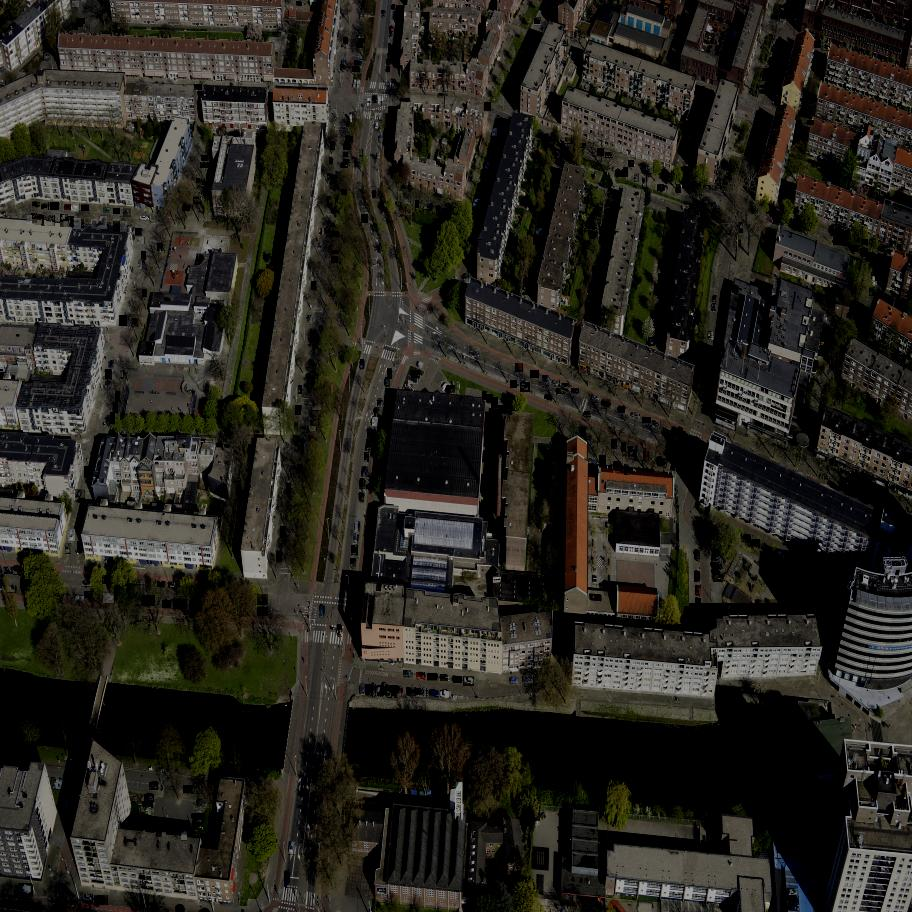large-vehicle: (717, 338, 726, 359)
small-vehicle: (18, 884, 34, 898), (189, 601, 203, 613), (142, 595, 155, 607), (94, 895, 108, 906), (75, 490, 86, 503), (462, 676, 475, 687), (173, 599, 187, 609), (552, 641, 562, 655), (740, 534, 752, 545), (441, 382, 453, 393), (519, 383, 531, 394), (776, 551, 788, 562), (257, 595, 269, 606), (845, 579, 857, 590), (103, 594, 116, 604), (829, 622, 842, 632), (794, 842, 804, 855), (796, 560, 807, 571), (13, 566, 25, 576), (613, 461, 623, 473), (601, 400, 613, 410), (802, 843, 810, 858), (788, 889, 800, 899), (193, 813, 204, 823), (119, 221, 129, 232), (765, 547, 776, 557), (141, 808, 152, 818), (538, 212, 549, 222), (408, 375, 419, 385), (498, 405, 509, 415), (628, 446, 638, 457), (599, 455, 608, 467), (788, 897, 800, 906), (100, 217, 108, 230), (61, 214, 69, 227), (777, 836, 783, 853), (103, 575, 113, 585), (105, 370, 114, 381), (161, 600, 172, 609), (122, 208, 133, 217), (119, 315, 128, 326), (47, 216, 56, 227), (711, 556, 722, 565), (44, 215, 53, 226), (142, 801, 153, 810), (183, 786, 194, 795), (198, 800, 209, 809), (750, 540, 761, 549), (523, 675, 534, 684), (406, 688, 417, 697), (491, 397, 500, 408), (429, 690, 440, 699), (427, 673, 438, 682), (440, 691, 451, 700), (103, 380, 111, 392), (65, 216, 73, 228), (73, 218, 81, 230), (68, 529, 75, 542), (284, 873, 291, 886), (288, 842, 295, 855), (76, 18, 86, 27), (21, 580, 31, 589), (65, 798, 71, 813), (71, 204, 81, 213), (149, 782, 159, 791), (602, 217, 611, 227), (502, 410, 511, 420), (446, 385, 456, 394), (652, 420, 662, 429), (411, 370, 421, 379), (820, 332, 830, 341), (706, 403, 715, 413), (112, 222, 120, 233), (144, 794, 155, 802), (35, 215, 43, 226), (712, 563, 723, 571), (351, 545, 359, 556), (359, 478, 367, 489), (257, 608, 268, 616), (630, 412, 641, 420), (781, 60, 789, 71), (695, 598, 702, 610), (280, 526, 287, 538), (599, 235, 608, 244), (587, 295, 596, 304), (44, 53, 53, 62), (196, 177, 206, 185), (533, 237, 543, 245), (599, 227, 609, 235), (417, 689, 427, 697), (544, 395, 554, 403), (788, 904, 798, 912), (787, 558, 797, 566), (84, 466, 90, 479), (695, 571, 702, 582), (92, 219, 99, 230), (133, 318, 140, 329), (295, 405, 302, 416), (362, 466, 369, 477), (762, 68, 773, 75), (712, 550, 721, 558), (110, 413, 116, 425), (83, 25, 92, 33), (50, 202, 59, 210), (507, 75, 516, 83), (136, 228, 144, 237), (483, 103, 492, 111), (523, 279, 532, 287), (589, 287, 598, 295), (487, 394, 495, 403), (510, 380, 519, 388), (515, 364, 524, 372), (128, 226, 136, 235), (561, 383, 570, 391), (786, 839, 792, 851), (759, 86, 768, 94), (887, 249, 896, 257), (463, 273, 471, 282), (597, 148, 606, 156), (860, 248, 869, 256), (694, 550, 701, 560), (397, 687, 404, 697), (622, 442, 629, 452), (611, 440, 618, 450), (530, 371, 540, 378), (812, 894, 822, 901), (710, 392, 717, 402), (649, 337, 656, 347), (762, 135, 769, 145), (475, 231, 482, 241), (832, 239, 842, 246), (113, 402, 119, 413), (65, 543, 71, 554), (277, 551, 283, 562), (366, 684, 372, 695), (623, 167, 629, 178), (95, 13, 103, 21), (331, 256, 339, 264), (522, 288, 530, 296), (536, 229, 544, 237), (551, 15, 559, 23), (646, 166, 654, 174), (771, 44, 779, 52), (814, 41, 822, 49), (703, 186, 712, 193), (83, 895, 92, 902), (81, 205, 90, 212), (82, 579, 91, 586), (4, 567, 13, 574), (502, 86, 511, 93), (200, 162, 209, 169), (713, 575, 722, 582), (193, 823, 202, 830), (137, 237, 146, 244), (247, 445, 256, 452), (193, 198, 202, 205), (358, 27, 367, 34), (331, 176, 338, 185), (317, 243, 324, 252), (362, 215, 369, 224), (604, 211, 611, 220), (586, 303, 593, 312), (551, 380, 560, 387), (592, 396, 601, 403), (658, 274, 665, 283), (762, 74, 771, 81), (768, 57, 777, 64), (869, 287, 876, 296), (470, 253, 477, 262), (474, 199, 481, 208), (660, 266, 667, 275), (862, 312, 869, 321), (32, 214, 38, 224), (181, 831, 187, 841), (364, 453, 370, 463), (297, 464, 303, 474), (467, 263, 473, 273), (826, 583, 832, 593), (72, 23, 79, 31), (103, 207, 111, 214), (157, 244, 164, 252), (353, 67, 361, 74), (32, 201, 40, 208), (694, 183, 702, 190), (592, 277, 599, 285), (538, 221, 545, 229), (405, 384, 413, 391), (618, 406, 626, 413), (534, 17, 542, 24), (427, 204, 434, 212), (424, 203, 431, 211), (628, 160, 636, 167), (353, 533, 358, 544), (368, 429, 373, 440), (301, 443, 306, 454), (360, 684, 365, 695), (388, 368, 393, 379), (27, 216, 33, 225), (182, 205, 191, 211), (331, 231, 340, 237), (484, 161, 490, 170), (554, 634, 563, 640), (644, 452, 650, 461), (556, 388, 565, 394), (642, 417, 651, 423), (654, 311, 660, 320), (106, 221, 111, 231), (366, 440, 371, 450), (375, 407, 380, 417), (625, 464, 630, 474), (705, 358, 710, 368), (8, 585, 15, 592), (42, 203, 49, 210), (344, 144, 351, 151), (522, 45, 529, 52), (699, 86, 706, 93), (372, 96, 379, 103), (561, 40, 568, 47), (775, 87, 782, 94), (565, 137, 572, 144), (823, 44, 830, 51), (492, 129, 498, 137), (85, 592, 93, 598), (341, 163, 349, 169), (371, 684, 375, 696), (194, 190, 202, 196), (340, 189, 348, 195), (478, 183, 484, 191), (594, 269, 600, 277), (454, 677, 462, 683), (819, 350, 827, 356), (821, 342, 829, 348), (822, 54, 828, 62), (658, 184, 664, 192), (96, 221, 101, 230), (295, 422, 300, 431), (372, 417, 377, 426), (312, 405, 321, 410), (373, 259, 378, 268), (663, 248, 668, 257), (355, 521, 359, 532), (873, 276, 877, 287), (739, 222, 743, 233), (65, 205, 72, 211), (113, 208, 120, 214), (311, 421, 318, 427), (789, 214, 796, 220), (515, 60, 522, 66), (523, 42, 530, 48), (417, 672, 424, 678), (441, 674, 448, 680), (703, 95, 710, 101), (848, 575, 855, 581), (782, 6, 789, 12), (77, 542, 81, 552), (194, 196, 202, 201), (344, 37, 349, 45), (385, 378, 390, 386), (493, 168, 498, 176), (393, 686, 397, 696), (510, 678, 518, 683), (387, 58, 392, 66), (878, 247, 886, 252), (666, 235, 671, 243), (799, 3, 804, 11), (383, 684, 386, 697), (0, 81, 6, 87), (138, 260, 142, 269), (41, 216, 45, 225), (201, 155, 207, 161), (696, 585, 700, 594), (80, 219, 84, 228), (69, 217, 73, 226), (320, 606, 323, 618), (378, 686, 382, 695), (308, 316, 312, 325), (581, 427, 585, 436), (388, 685, 391, 697), (657, 457, 661, 466), (707, 348, 711, 357), (751, 142, 755, 151), (72, 2, 79, 7), (712, 570, 719, 575), (141, 216, 148, 221), (157, 830, 162, 837), (358, 38, 365, 43), (346, 137, 353, 142), (372, 190, 377, 197), (196, 186, 203, 191), (438, 93, 445, 98), (404, 671, 411, 676), (543, 376, 550, 381), (619, 170, 624, 177), (606, 152, 613, 157), (861, 240, 868, 245), (338, 624, 341, 635), (110, 361, 114, 369), (162, 829, 166, 837), (137, 580, 145, 584), (350, 559, 354, 567), (287, 483, 291, 491), (761, 144, 765, 152), (757, 123, 761, 131), (116, 391, 119, 401), (169, 583, 175, 588), (359, 34, 365, 39), (580, 143, 586, 148), (781, 12, 787, 17), (157, 582, 164, 586), (327, 173, 331, 180), (332, 250, 339, 254), (312, 282, 316, 289), (584, 412, 591, 416), (386, 66, 390, 73), (634, 174, 638, 181), (807, 121, 814, 125), (713, 295, 717, 302), (781, 10, 788, 14), (379, 398, 382, 407), (708, 331, 711, 340), (483, 391, 486, 400), (643, 178, 646, 187), (657, 301, 660, 310), (311, 426, 316, 431), (852, 246, 857, 251), (195, 85, 201, 89), (176, 832, 179, 840), (143, 289, 146, 297), (355, 61, 361, 65), (360, 493, 363, 501), (514, 99, 517, 107), (572, 388, 578, 392), (616, 169, 619, 177), (663, 459, 666, 467), (654, 319, 657, 327), (416, 200, 419, 208), (437, 206, 440, 214), (142, 252, 145, 259), (331, 142, 334, 149), (534, 22, 541, 25), (375, 122, 378, 129), (377, 152, 380, 159), (487, 195, 490, 202), (677, 185, 680, 192), (357, 43, 362, 47), (347, 133, 352, 137), (344, 159, 349, 163), (120, 371, 123, 377), (392, 4, 395, 10), (379, 96, 381, 105), (388, 52, 391, 58), (712, 304, 715, 310), (663, 187, 666, 193), (773, 98, 776, 104), (344, 153, 348, 157), (355, 57, 359, 61), (367, 98, 369, 106), (361, 360, 363, 368), (517, 58, 521, 62), (672, 462, 674, 470), (780, 72, 782, 80), (345, 142, 350, 145), (754, 131, 757, 136), (489, 187, 492, 192), (780, 15, 785, 18), (299, 386, 301, 393), (330, 157, 332, 163), (360, 149, 362, 155), (390, 26, 392, 32), (483, 170, 485, 176), (490, 147, 492, 153), (379, 135, 381, 141), (767, 62, 773, 64), (816, 52, 818, 58), (343, 59, 345, 64), (320, 229, 322, 234), (502, 139, 504, 144), (382, 11, 384, 16), (695, 92, 698, 95), (341, 65, 343, 69), (297, 2, 301, 4), (389, 32, 391, 36), (784, 5, 788, 7), (389, 44, 390, 51), (798, 11, 799, 17)
